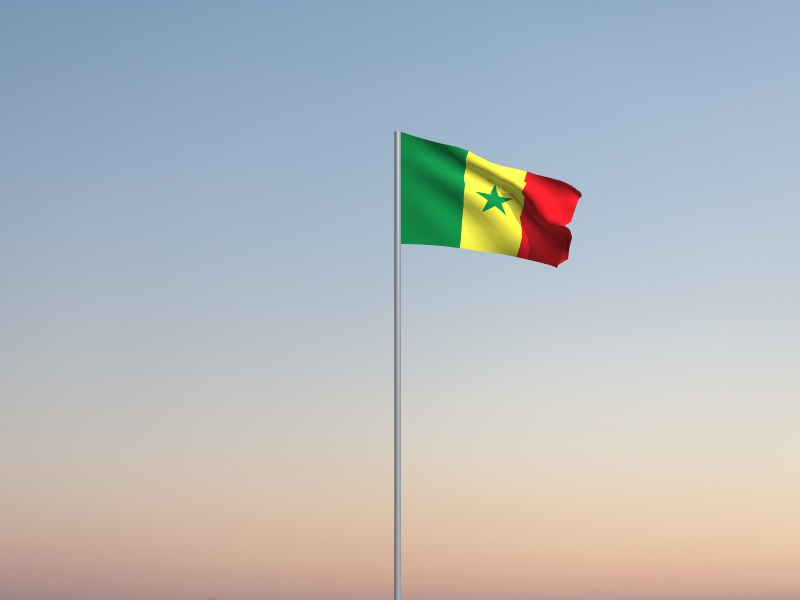sn: (402, 133, 584, 269)
